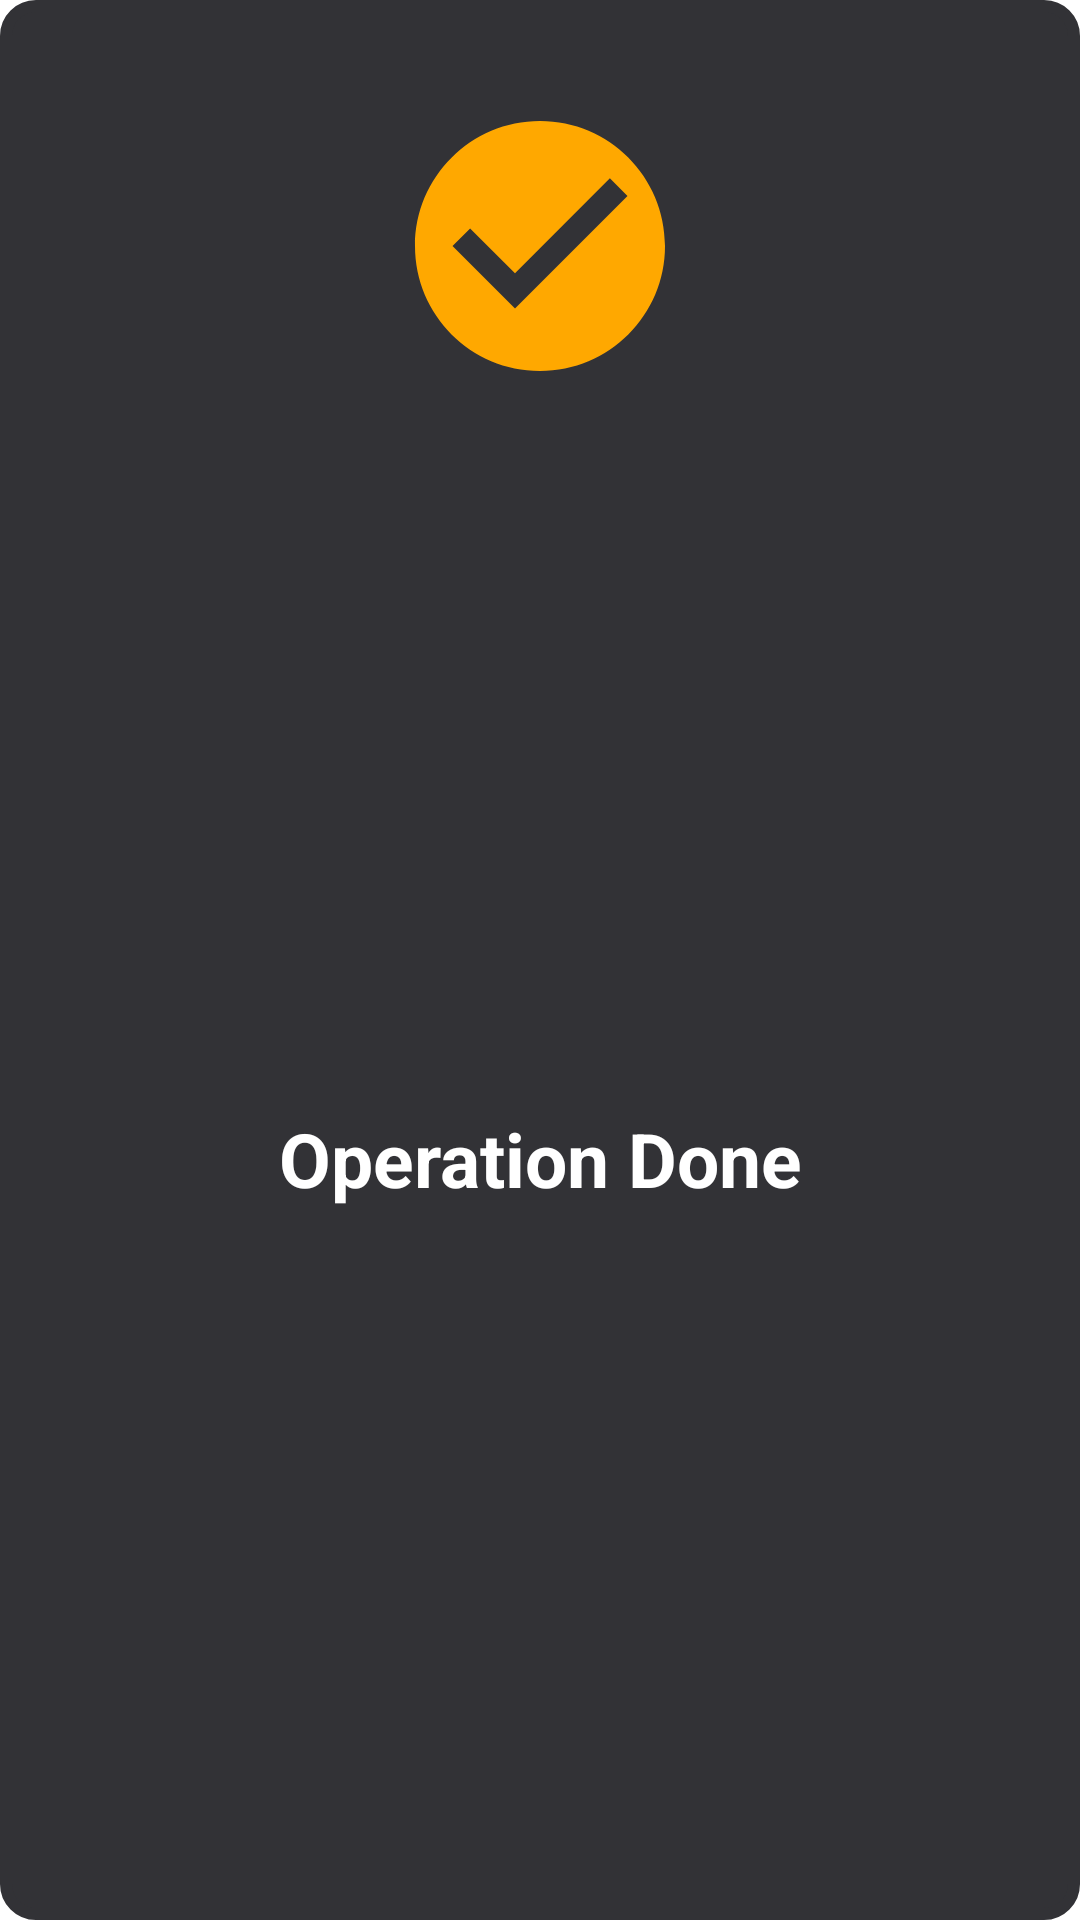

Screen size 1080w x 1920h. Icon name, then its center in pixels as [x,y]:
cheaked: [540,246]
